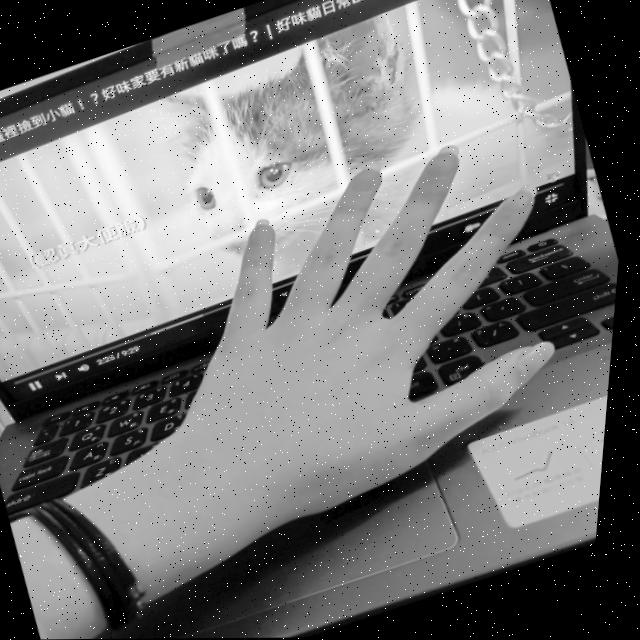hand: (127, 110, 621, 539)
